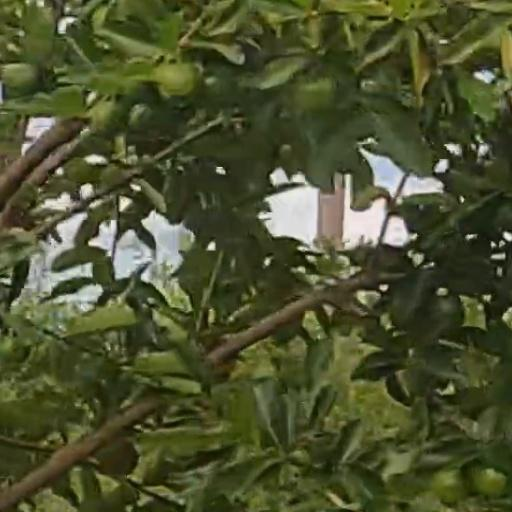acerola_verde: (159, 65, 195, 96), (435, 468, 462, 504), (469, 467, 504, 494), (91, 101, 118, 134)
